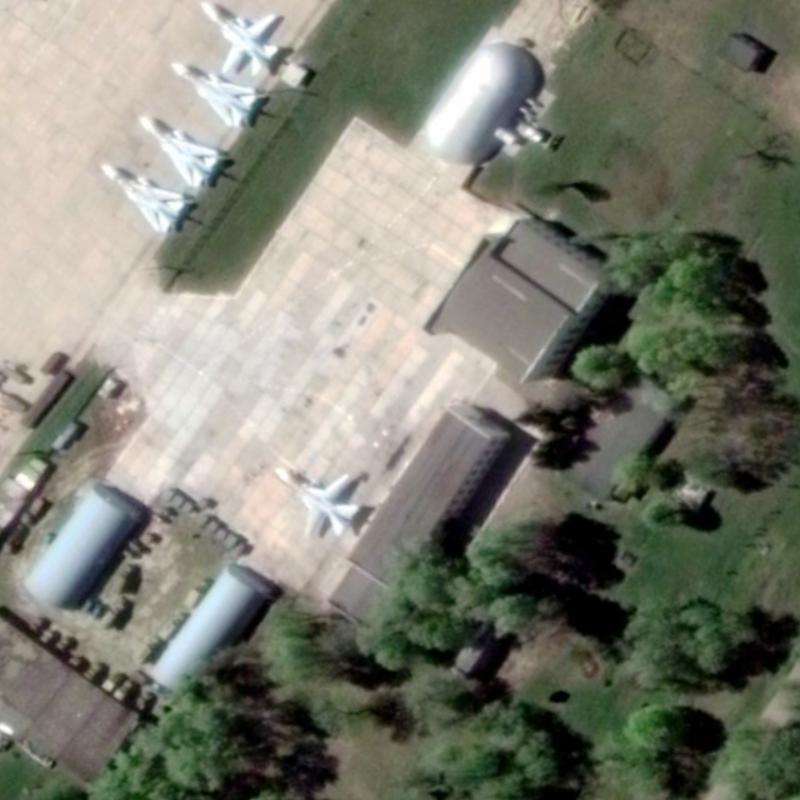A20: (272, 464, 361, 540), (97, 162, 187, 235), (137, 113, 221, 191), (168, 59, 259, 130), (196, 1, 281, 77)
